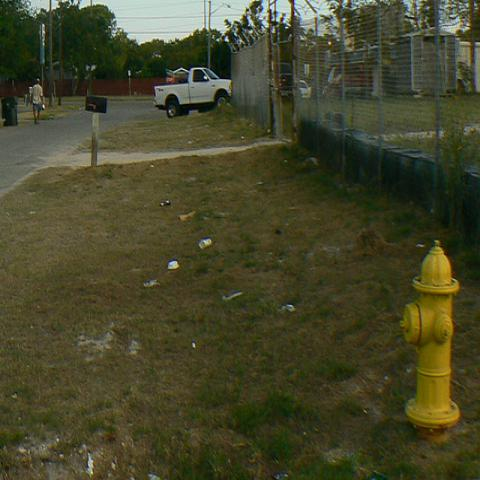car: (326, 64, 374, 98), (280, 63, 292, 92), (299, 80, 313, 99)
truck: (152, 66, 232, 118)
